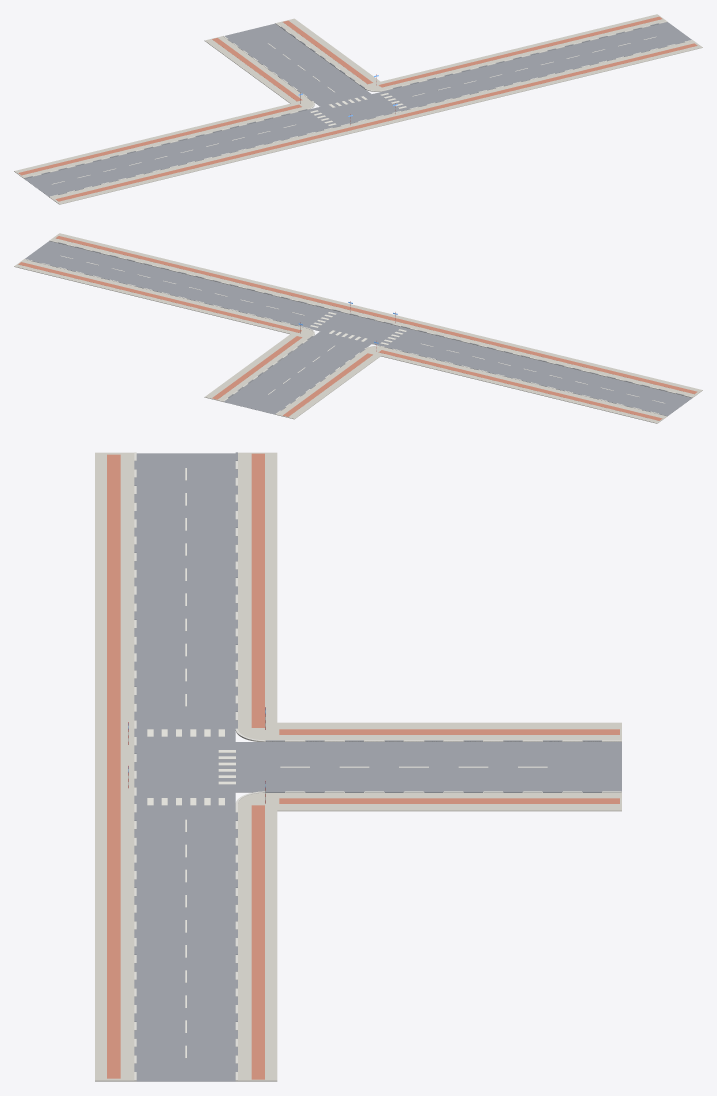
File: SM_Hanoi_CarRoadNetwork.fbx
3 views of the same model, one above another, from view 1: azimuth 30°, elevation 25°; view 2: azimuth 150°, elevation 25°; view 3: azimuth 270°, elevation 25° (orthographic). The views are drawn at different scales.
Parts seen in each view (by area): view 1: Road_EW_Asphalt, SW_EW_South_Full, Road_NS_Asphalt, SW_EW_SouthRed_Full, SW_EW_North_E, SW_EW_North_W, SW_NS_W, SW_NS_E, SW_EW_NorthRed_W, SW_EW_NorthRed_E, SW_NSRed_W, SW_NSRed_E; view 2: Road_EW_Asphalt, SW_EW_South_Full, Road_NS_Asphalt, SW_EW_SouthRed_Full, SW_EW_North_W, SW_EW_North_E, SW_NS_W, SW_NS_E, SW_EW_NorthRed_E, SW_EW_NorthRed_W, SW_NSRed_E, SW_NSRed_W; view 3: Road_EW_Asphalt, Road_NS_Asphalt, SW_EW_South_Full, SW_EW_SouthRed_Full, SW_EW_North_E, SW_EW_North_W, SW_NS_W, SW_NS_E, SW_EW_NorthRed_E, SW_EW_NorthRed_W, SW_NSRed_E, SW_NSRed_W.
Part boxes in pixels (box(x1,y1,x2,y2)): Road_EW_Asphalt: box(24, 22, 691, 196); SW_EW_South_Full: box(49, 40, 702, 204); Road_NS_Asphalt: box(225, 23, 371, 106); SW_EW_SouthRed_Full: box(55, 43, 697, 201); SW_EW_North_E: box(374, 14, 666, 90); SW_EW_North_W: box(14, 102, 305, 178); SW_NS_W: box(204, 36, 308, 103); SW_NS_E: box(277, 18, 380, 85); SW_EW_NorthRed_W: box(18, 104, 301, 175); SW_EW_NorthRed_E: box(378, 16, 661, 87); SW_NSRed_W: box(212, 38, 302, 101); SW_NSRed_E: box(283, 20, 372, 84); Road_EW_Asphalt: box(25, 241, 692, 415); SW_EW_South_Full: box(50, 233, 702, 397); Road_NS_Asphalt: box(224, 331, 371, 414); SW_EW_SouthRed_Full: box(55, 236, 697, 394); SW_EW_North_W: box(374, 347, 667, 423); SW_EW_North_E: box(14, 259, 306, 335); SW_NS_W: box(275, 351, 380, 419); SW_NS_E: box(204, 334, 309, 401); SW_EW_NorthRed_E: box(18, 262, 301, 332); SW_EW_NorthRed_W: box(378, 350, 662, 420); SW_NSRed_E: box(212, 336, 302, 399); SW_NSRed_W: box(283, 353, 372, 416); Road_EW_Asphalt: box(136, 453, 235, 1081); Road_NS_Asphalt: box(235, 742, 621, 792); SW_EW_South_Full: box(95, 452, 136, 1081); SW_EW_SouthRed_Full: box(107, 454, 120, 1078); SW_EW_North_E: box(235, 804, 277, 1081); SW_EW_North_W: box(238, 452, 277, 728); SW_NS_W: box(277, 722, 621, 741); SW_NS_E: box(277, 792, 621, 811); SW_EW_NorthRed_E: box(251, 805, 264, 1079); SW_EW_NorthRed_W: box(251, 453, 264, 727); SW_NSRed_E: box(279, 798, 619, 803); SW_NSRed_W: box(279, 729, 619, 734).
Bounding box in the file's own units: 150 × 2.63 × 53.2.
